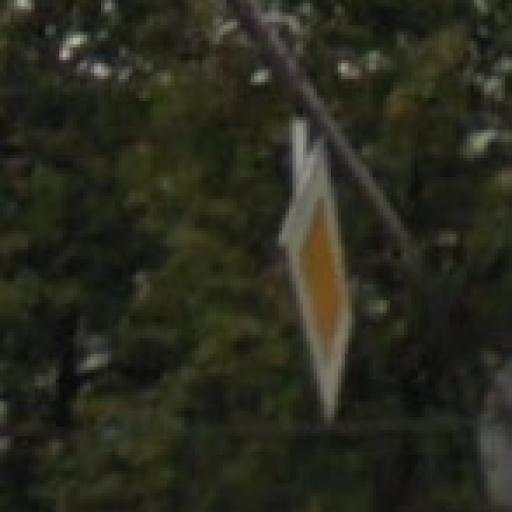traffic_sign: (283, 134, 363, 421)
